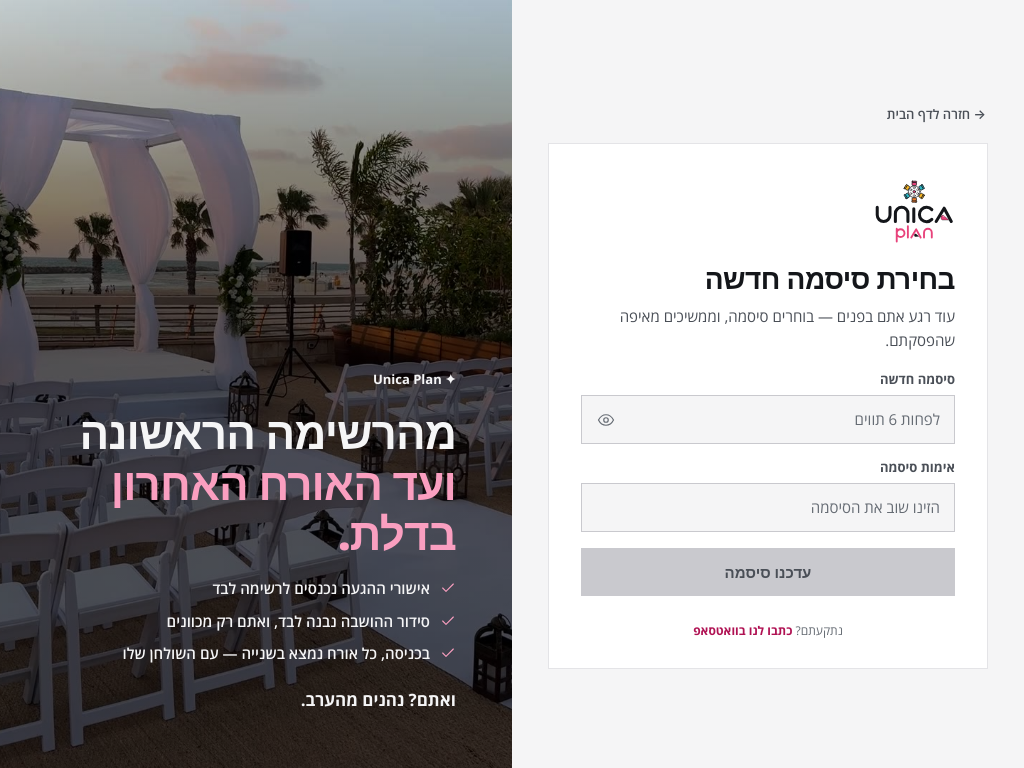
Test: the reset link › submitting spends it, then sets the password — in that order
The width and height of the screenshot is (1024, 768).
Type "secret12" into the password field labelled "סיסמה חדשה" at (768, 420), box [581, 395, 955, 444]
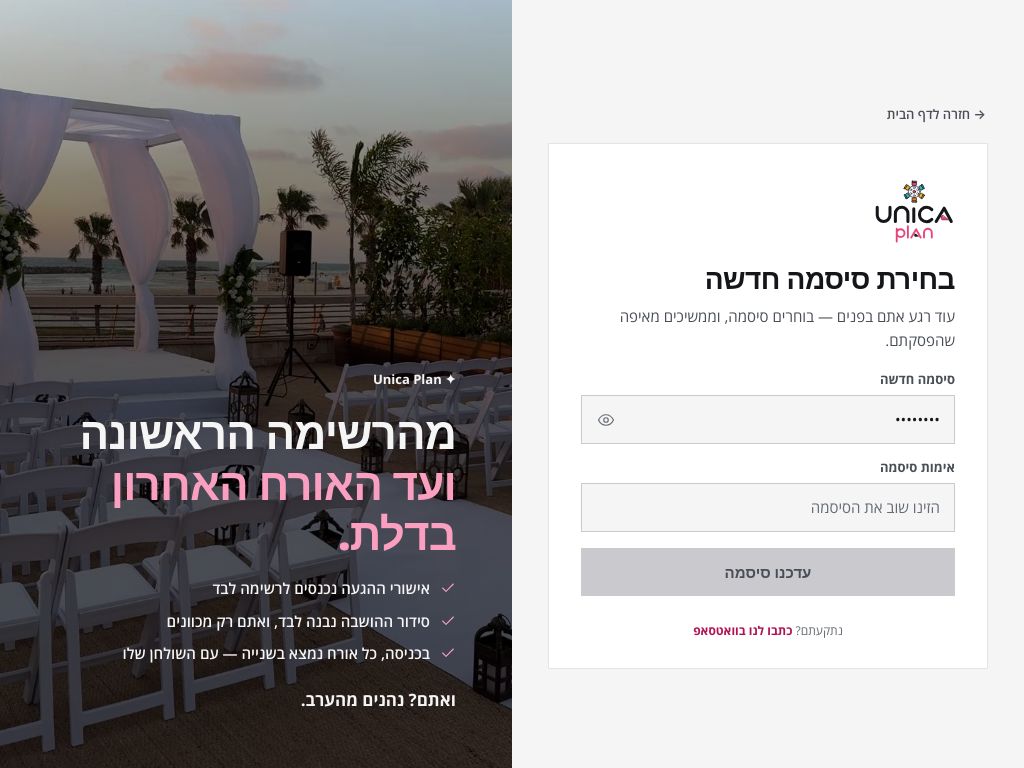
Type "secret12" into the password field labelled "אימות סיסמה" at (768, 508), box [581, 483, 955, 532]
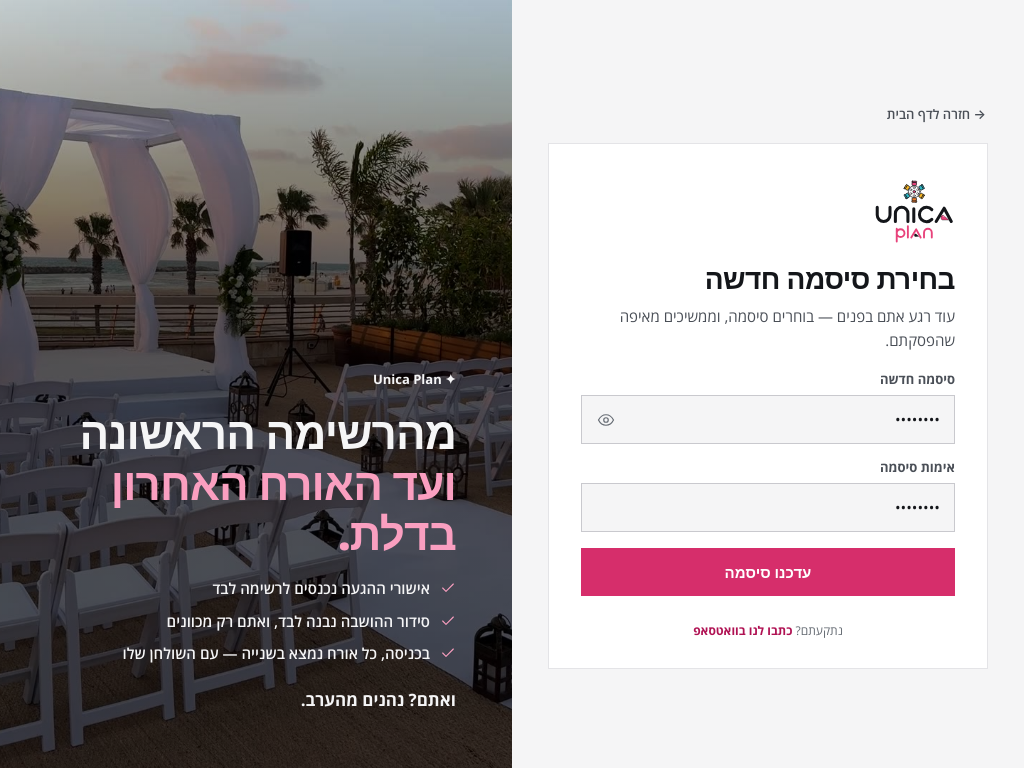
Click the button "עדכנו סיסמה" at (768, 572), box [581, 548, 955, 596]
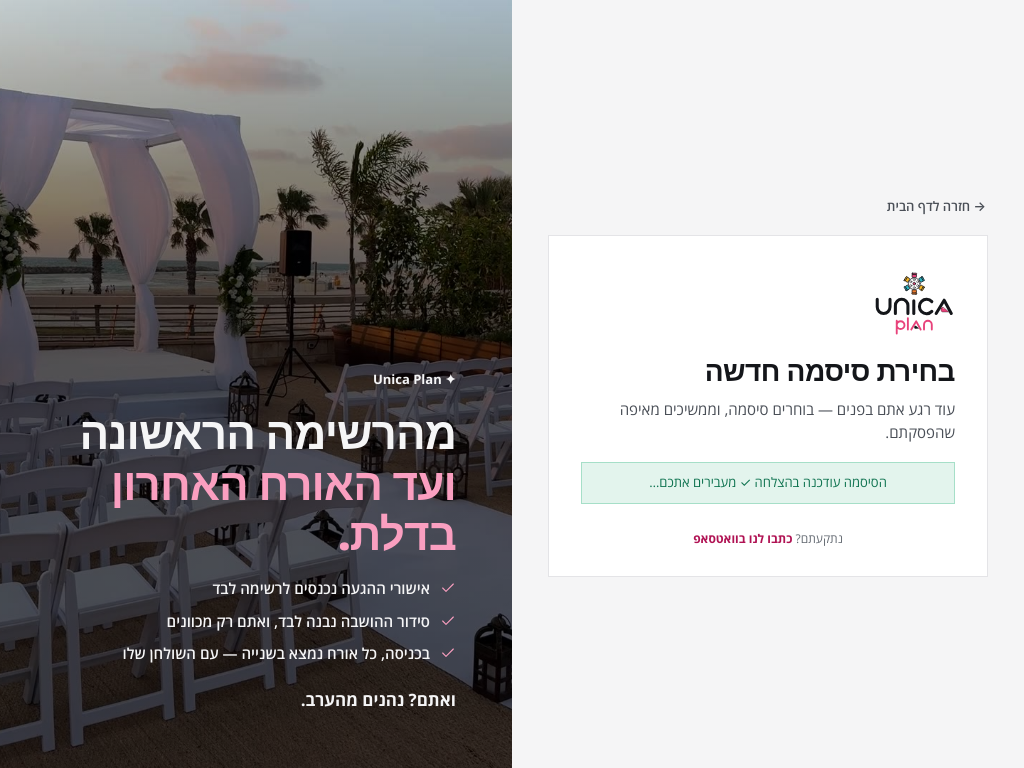
Expected: the message shows "הסיסמה עודכנה", [649, 473, 887, 491]
